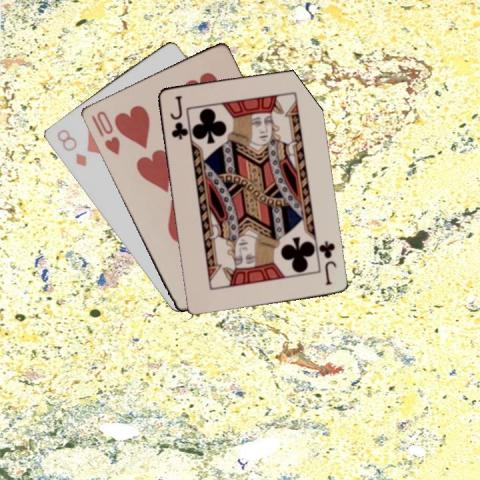10h: (88, 107, 122, 157)
8d: (53, 126, 88, 168)
Jc: (315, 237, 338, 287), (167, 92, 187, 141)
